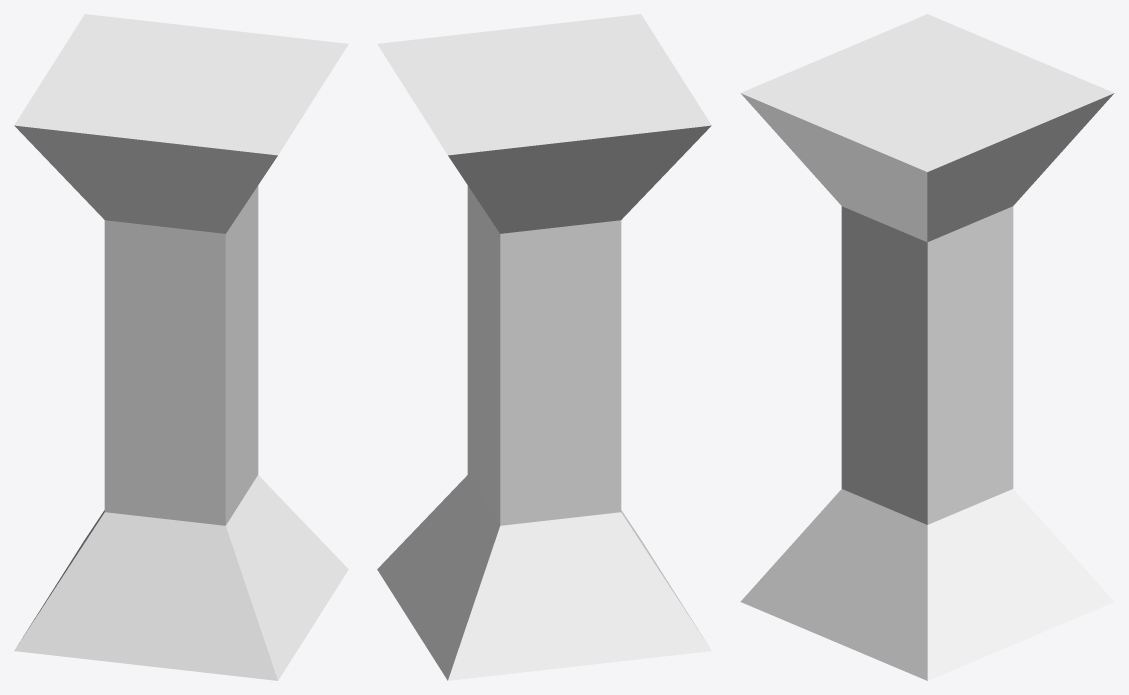
Rendered from Checkpoint.glb.
The picture shows the model from 3 angles, left to right: view 1: azimuth 30°, elevation 25°; view 2: azimuth 150°, elevation 25°; view 3: azimuth 270°, elevation 25°; orthographic projection. The views are drawn at different scales.
Visible parts, largest first — view 1: Cylinder; view 2: Cylinder; view 3: Cylinder.
Part boxes in pixels (bbox=[...]): Cylinder: bbox=[14, 14, 348, 680]; Cylinder: bbox=[377, 14, 711, 680]; Cylinder: bbox=[740, 14, 1114, 680].
Bounding box in the file's own units: 1 × 1.5 × 1.
1 material, 1 textured.
